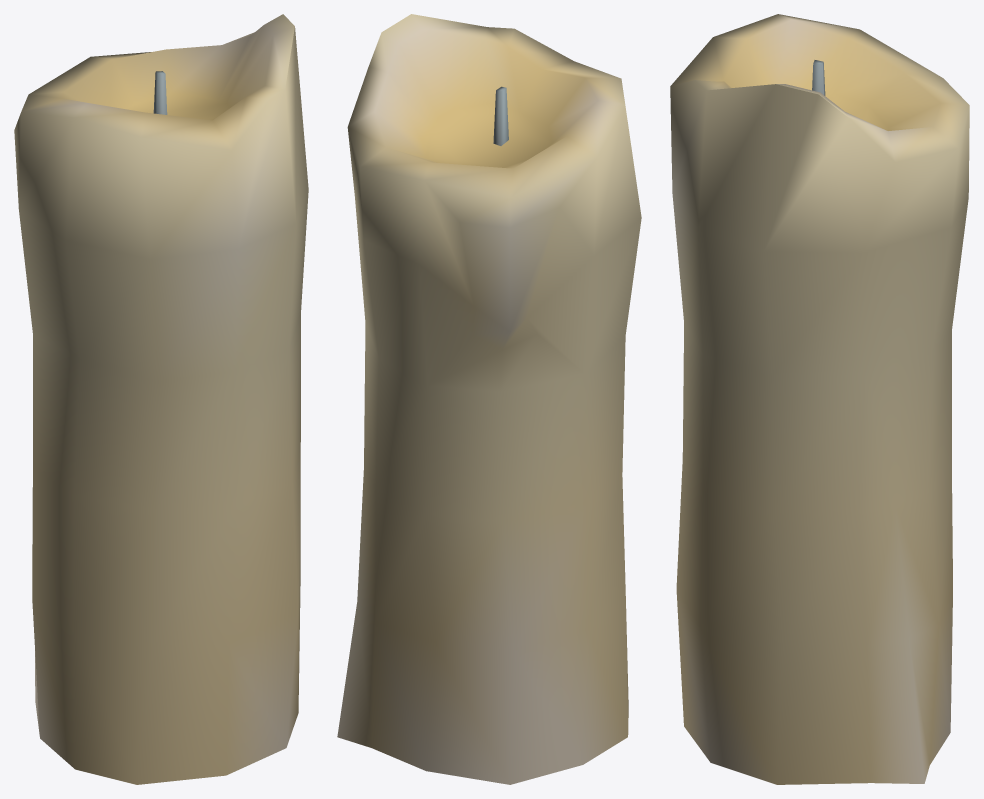
Rendered from Candle_2.glb.
3 views of the same model, side by side, from view 1: azimuth 30°, elevation 25°; view 2: azimuth 150°, elevation 25°; view 3: azimuth 270°, elevation 25° (orthographic). The views are drawn at different scales.
Parts seen in each view (by area): view 1: Candle_2; view 2: Candle_2; view 3: Candle_2.
Boxes of the visible parts, x1,y1,x2,y2 form: Candle_2: (14, 14, 308, 784); Candle_2: (337, 14, 641, 784); Candle_2: (670, 14, 969, 784).
Size of the model in its own units: 0.0944 by 0.2511 by 0.0975.
